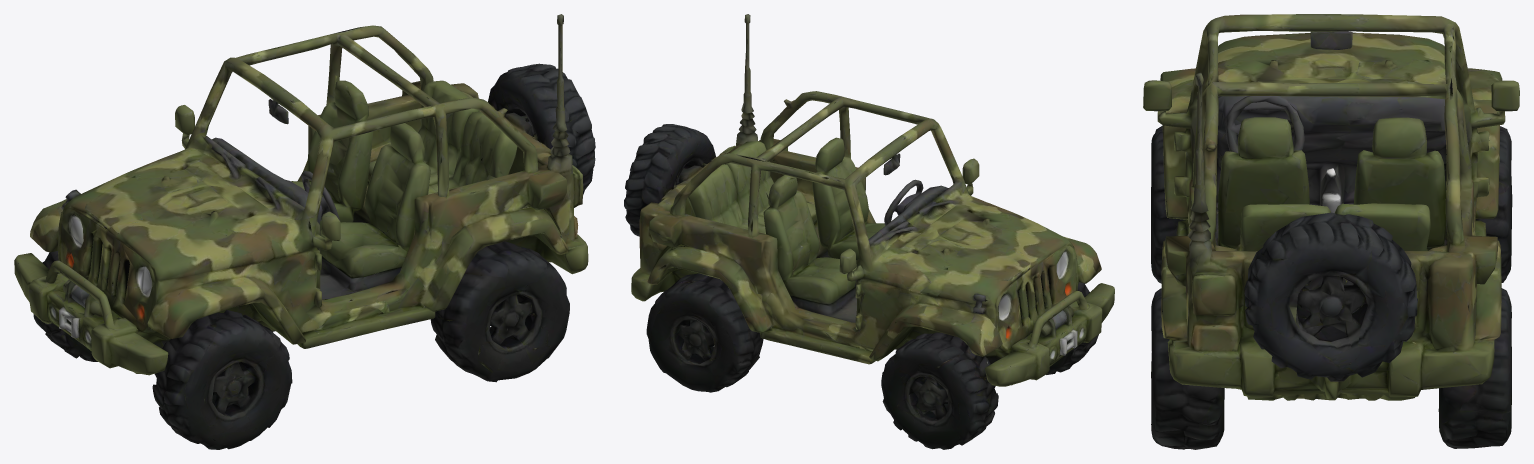
File: a3D-war-jeep.glb
3 renders of one model, left to right at view 1: azimuth 30°, elevation 25°; view 2: azimuth 150°, elevation 25°; view 3: azimuth 270°, elevation 25°, orthographic. The views are drawn at different scales.
Parts seen in each view (by area): view 1: geometry_0; view 2: geometry_0; view 3: geometry_0.
Part boxes in pixels (x1,y1,x2,y2): geometry_0: (14, 14, 595, 449); geometry_0: (624, 14, 1114, 449); geometry_0: (1143, 14, 1519, 449).
Bounding box in the file's own units: 1.9 × 1.23 × 1.04.
1 material, 1 textured.
